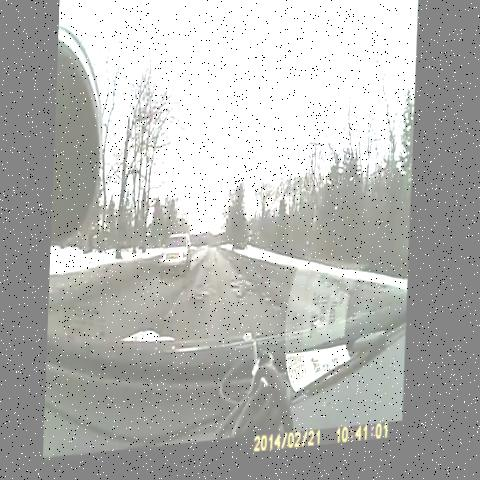pothole: (229, 266, 267, 318), (189, 276, 218, 317), (259, 296, 290, 324)
